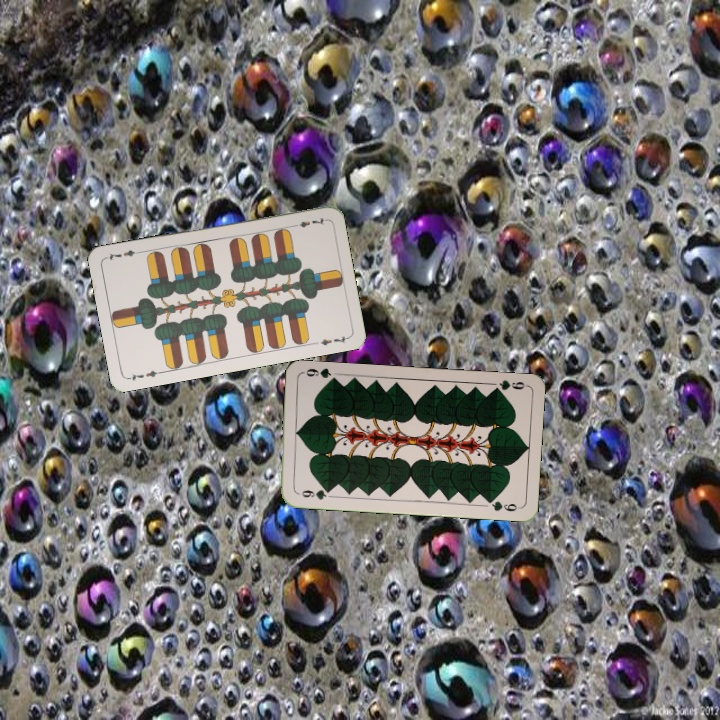E7: (124, 366, 165, 384), (288, 213, 328, 230)
G9: (488, 376, 529, 395), (293, 485, 334, 502)
